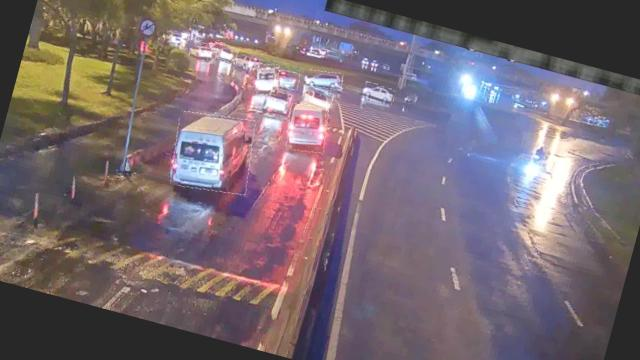Bike: (530, 141, 548, 166)
Bus: (164, 104, 260, 200), (282, 100, 332, 156), (251, 60, 282, 97)
Car: (262, 82, 296, 117), (304, 66, 344, 93), (301, 86, 333, 112), (362, 82, 396, 105), (188, 40, 219, 63), (210, 40, 238, 63), (274, 68, 300, 92)
